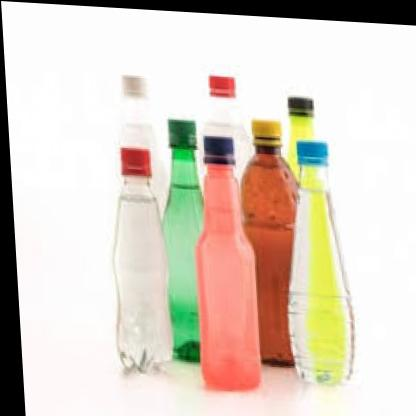Plastic: (91, 146, 174, 379), (281, 142, 351, 392), (237, 119, 306, 352), (139, 100, 194, 361)
